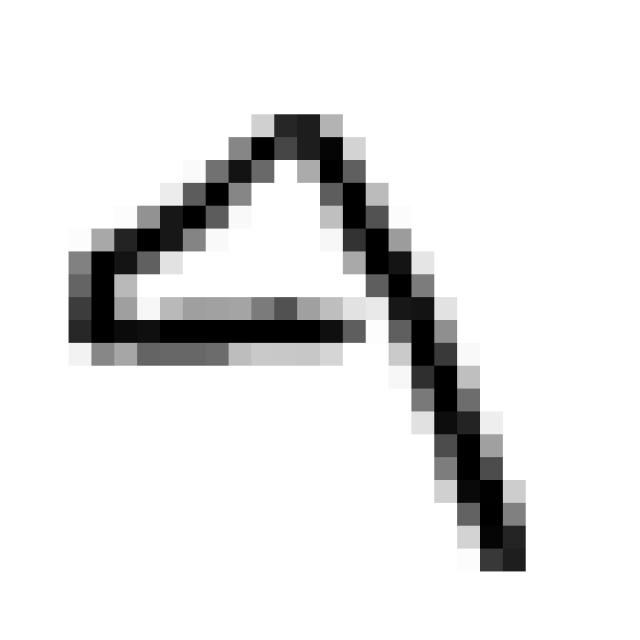9 -nine-: (48, 87, 548, 596)
